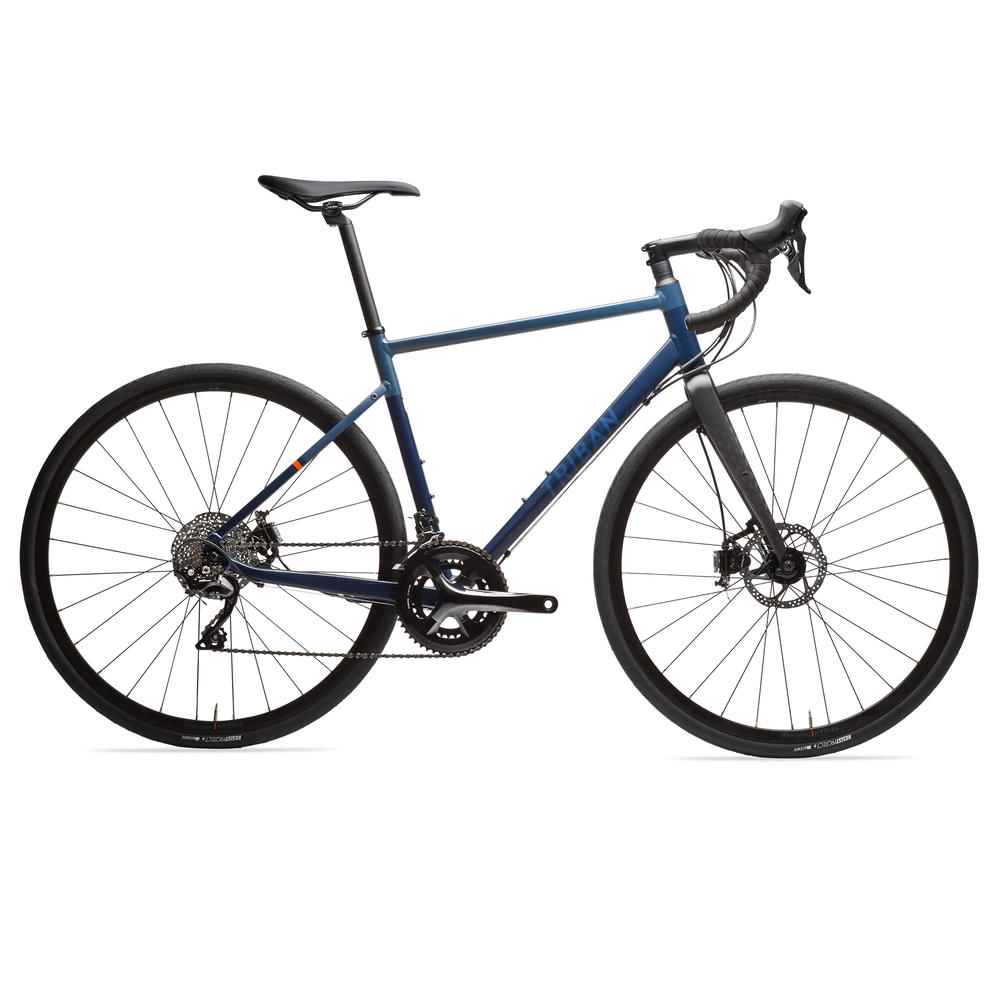RoadBike: (13, 181, 995, 763)
